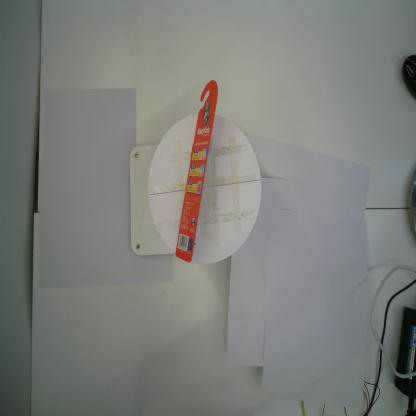Personal Hygiene: (175, 79, 218, 263)
